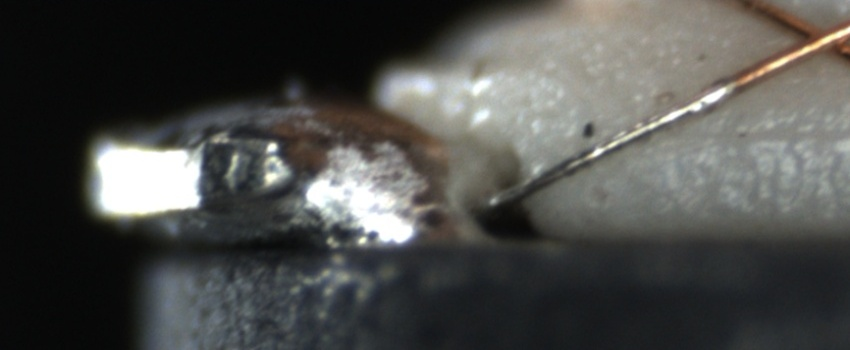CL: (771, 7, 850, 66)
DL: (704, 107, 850, 165)
TS: (491, 80, 736, 206)
